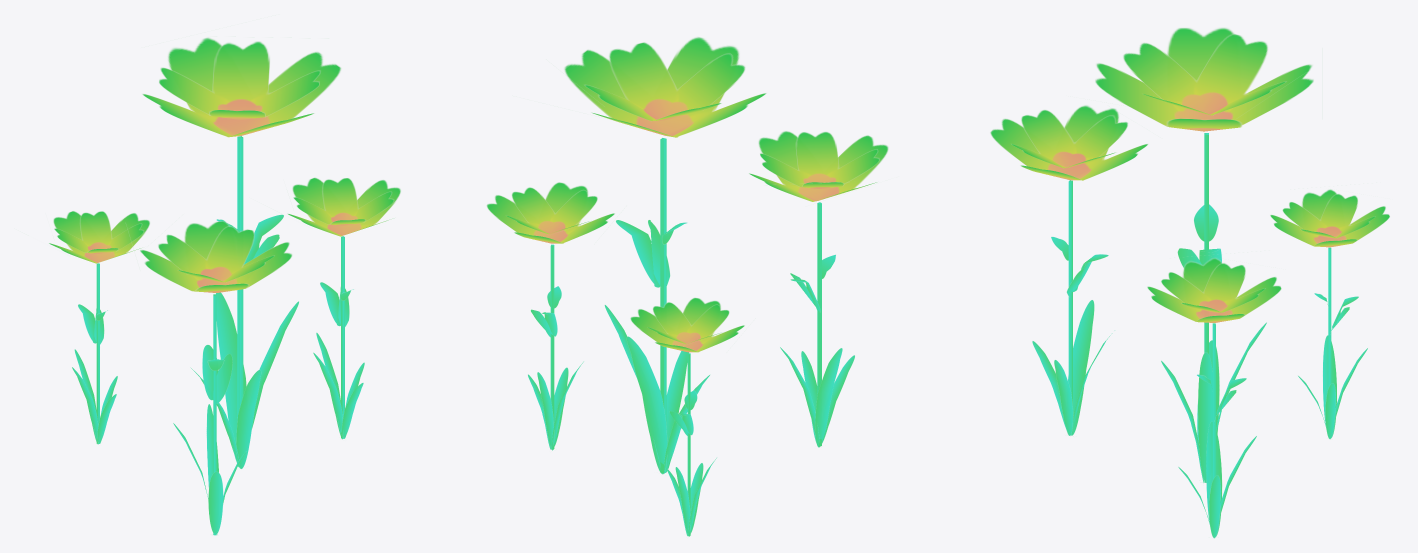
File: Flower_n_03.glb
3 views of the same model, side by side, from view 1: azimuth 30°, elevation 25°; view 2: azimuth 150°, elevation 25°; view 3: azimuth 270°, elevation 25° (orthographic). The views are drawn at different scales.
Visible parts, largest first — view 1: polySurface234; view 2: polySurface234; view 3: polySurface234.
Boxes of the visible parts, x1,y1,x2,y2 form: polySurface234: (49,36,400,535); polySurface234: (486,37,888,536); polySurface234: (990,27,1389,538).
Size of the model in its own units: 0.6246 by 0.6684 by 0.6431.
Materials: 1 (1 with a texture image).
